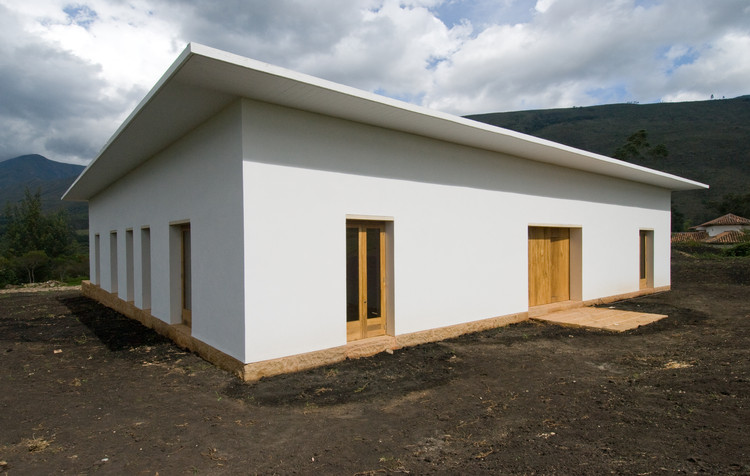House: (58, 39, 713, 381)
